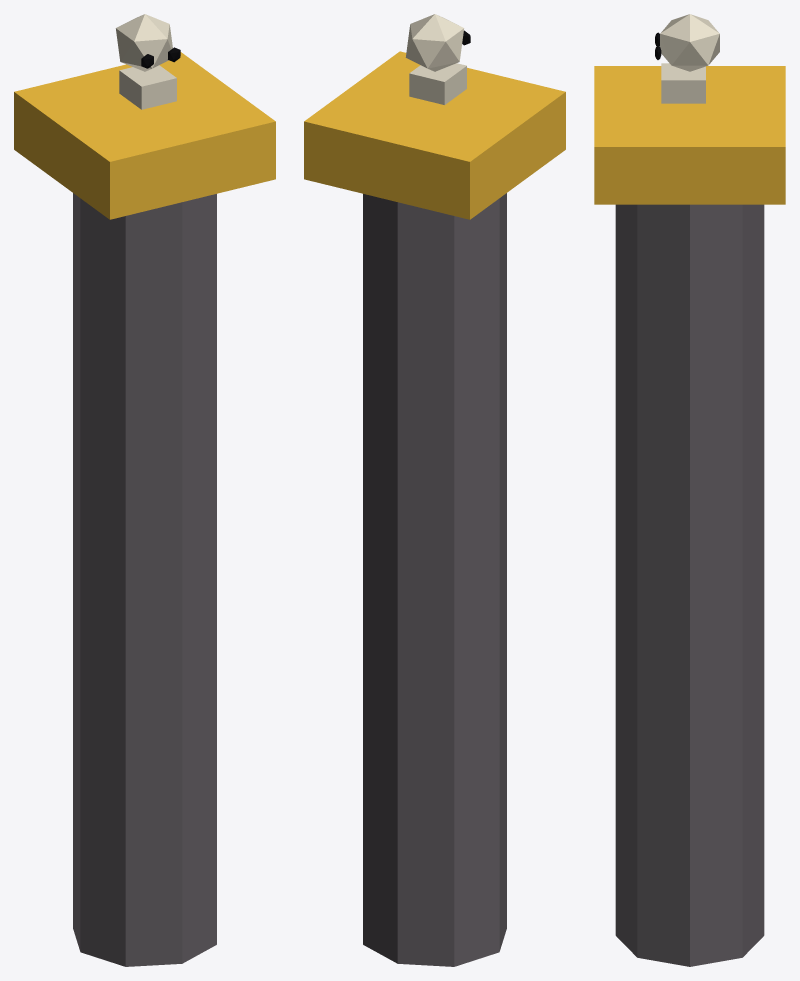
The model's file is Bld_OR_Pillar_01.glb.
3 renders of one model, left to right at view 1: azimuth 30°, elevation 25°; view 2: azimuth 150°, elevation 25°; view 3: azimuth 270°, elevation 25°, orthographic.
Visible parts, largest first — view 1: Bld_OR_Pillar_01; view 2: Bld_OR_Pillar_01; view 3: Bld_OR_Pillar_01.
Part boxes in pixels (x1=…): Bld_OR_Pillar_01: x1=14, y1=14, x2=275, y2=966; Bld_OR_Pillar_01: x1=304, y1=14, x2=565, y2=966; Bld_OR_Pillar_01: x1=594, y1=14, x2=785, y2=966.
Size of the model in its own units: 0.9 by 4.78 by 0.9.
